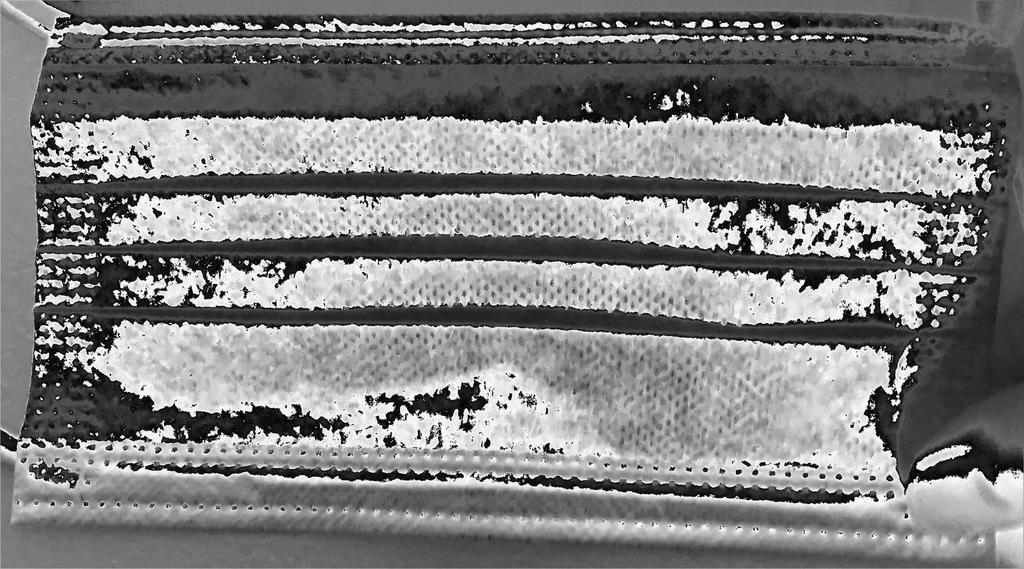High GSM: (11, 110, 901, 503)
